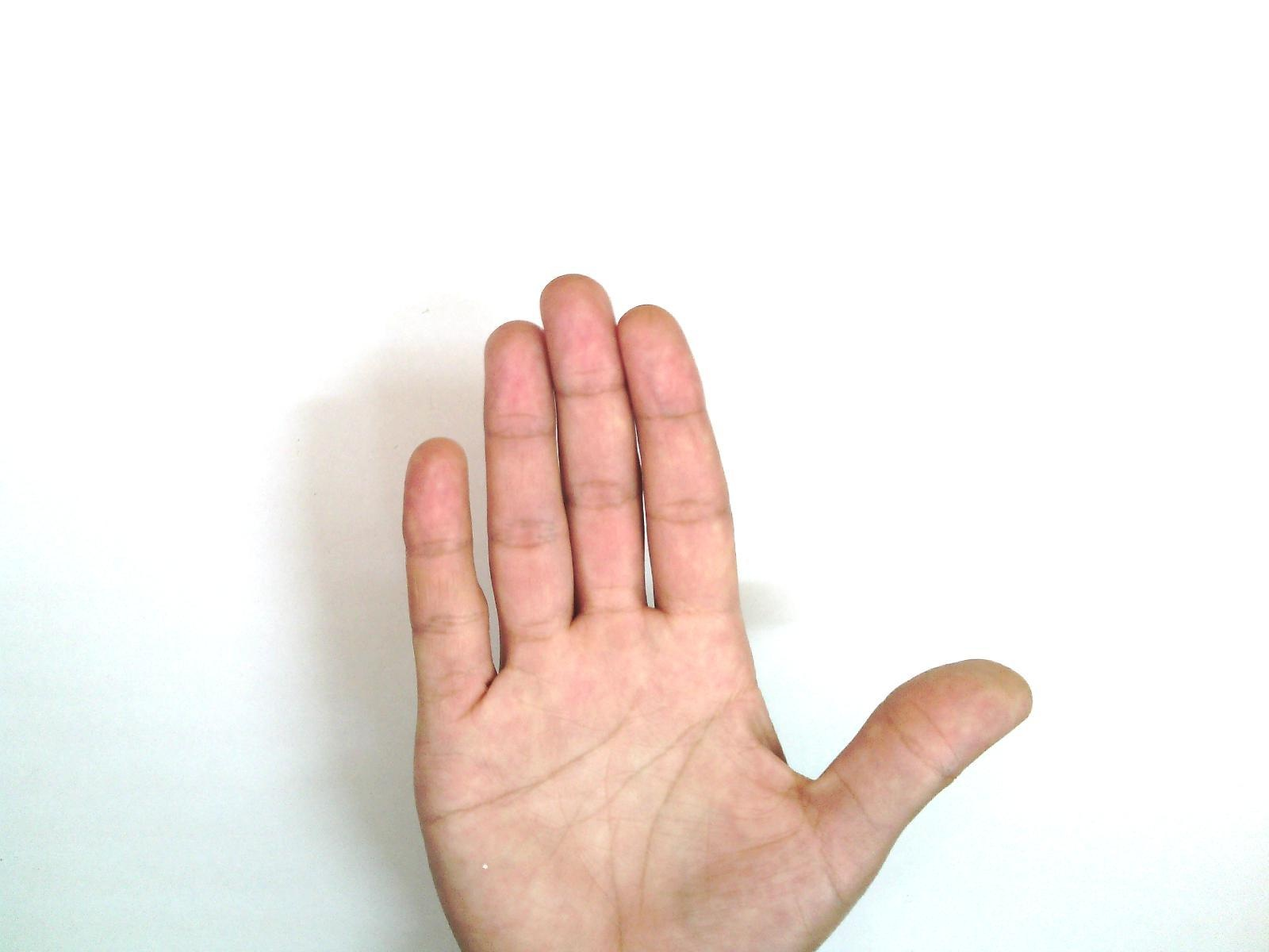open_palm: (398, 272, 1035, 951)
